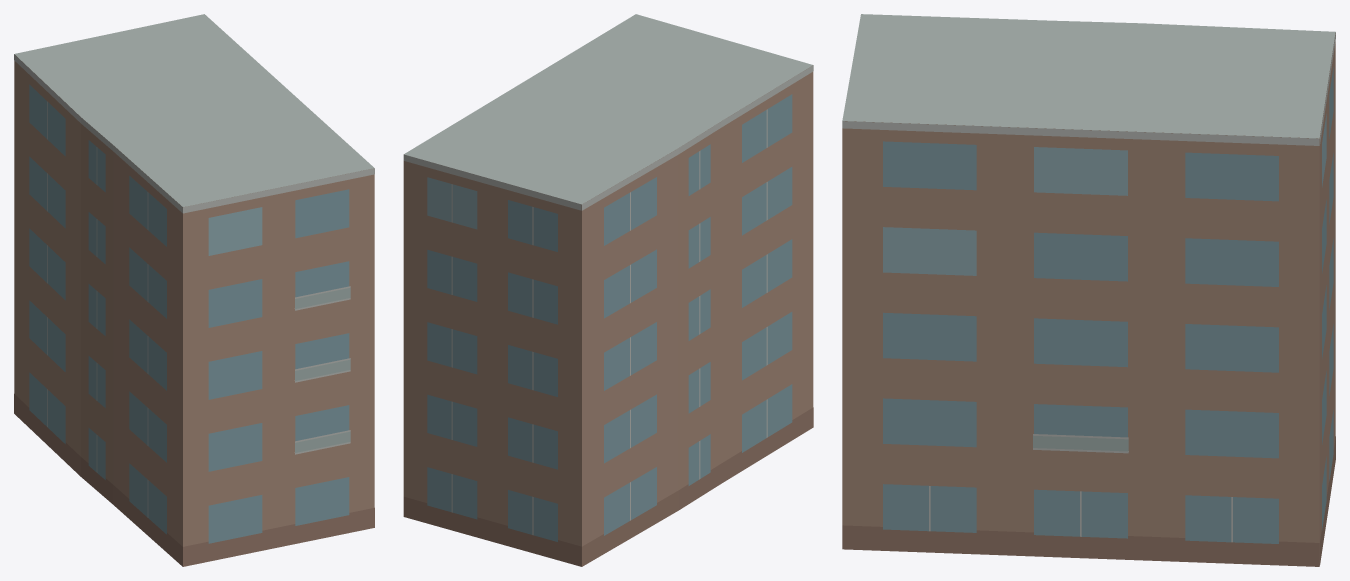
Rendered from survey-upis-32751926.glb.
3 views of the same model, side by side, from view 1: azimuth 30°, elevation 25°; view 2: azimuth 150°, elevation 25°; view 3: azimuth 270°, elevation 25° (orthographic). The views are drawn at different scales.
Visible parts, largest first — view 1: survey-upis-32751926.tmp; view 2: survey-upis-32751926.tmp; view 3: survey-upis-32751926.tmp.
Boxes of the visible parts, <box> form: survey-upis-32751926.tmp: <box>14,14,374,566</box>; survey-upis-32751926.tmp: <box>403,14,813,566</box>; survey-upis-32751926.tmp: <box>842,14,1335,566</box>.
Bounding box in the file's own units: 8.67 × 13.9 × 14.52.
